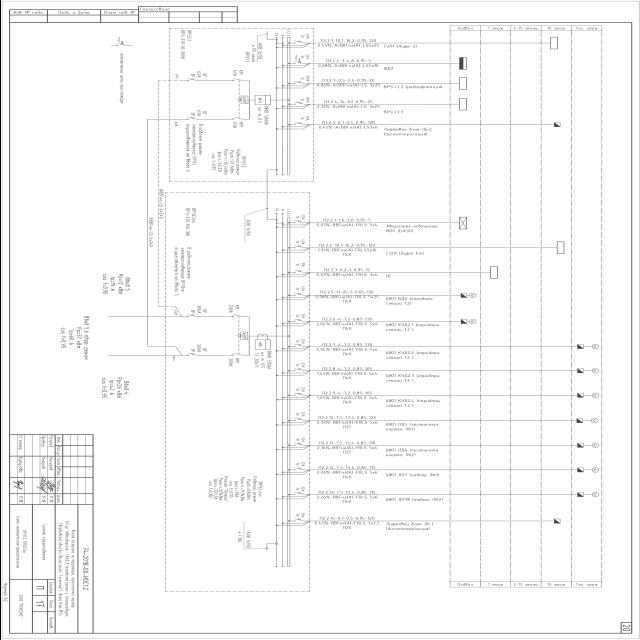-: (252, 350, 272, 370), (183, 208, 196, 238), (188, 306, 200, 314), (190, 344, 200, 352), (294, 312, 306, 318), (294, 214, 306, 220), (294, 239, 306, 245), (293, 362, 305, 368), (294, 461, 306, 467), (294, 512, 306, 518), (293, 286, 305, 292), (294, 262, 306, 268), (294, 486, 306, 492), (293, 338, 305, 344), (294, 387, 306, 392), (294, 437, 306, 442), (293, 411, 305, 416), (227, 304, 233, 313), (227, 358, 233, 366)
AVR: (240, 332, 248, 340)
KM: (231, 352, 243, 357), (230, 314, 242, 318)
QF: (292, 392, 303, 397), (292, 344, 304, 348), (292, 518, 304, 522), (292, 467, 304, 471), (292, 270, 304, 274), (292, 319, 304, 323), (292, 368, 304, 372), (292, 245, 304, 249), (292, 492, 303, 496), (186, 353, 197, 357), (186, 314, 197, 318), (292, 418, 303, 422), (292, 292, 303, 296), (292, 220, 303, 224), (292, 442, 303, 446)
TT: (256, 334, 268, 339)
WH: (253, 339, 270, 351)
